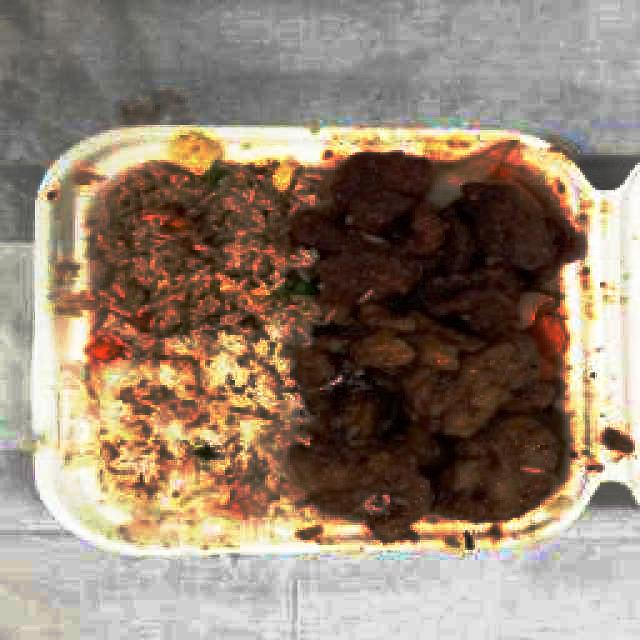Beijing Beef: (324, 151, 560, 311)
Fried Rice: (100, 169, 292, 333)
Kung Pao Chicken: (316, 325, 564, 521)
rice: (101, 332, 290, 505)
